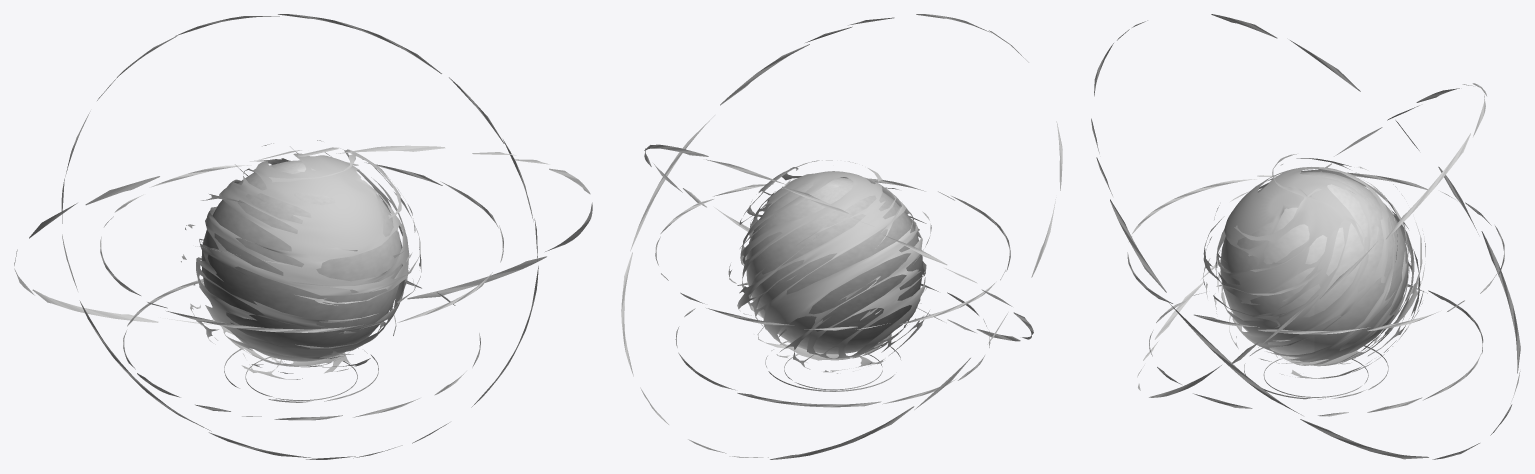
The model's file is fireball.obj.
3 renders of one model, left to right at view 1: azimuth 30°, elevation 25°; view 2: azimuth 150°, elevation 25°; view 3: azimuth 270°, elevation 25°, orthographic. The views are drawn at different scales.
Visible parts, largest first — view 1: Sphere.002, Sphere.001, Circle.004, Circle, Sphere, Circle.001, Circle.002; view 2: Sphere.001, Sphere.002, Circle.004, Sphere, Circle, Circle.001, Circle.002; view 3: Sphere.002, Sphere.001, Sphere, Circle.004, Circle, Circle.001, Circle.002.
Boxes of the visible parts, bbox=[...] form: Sphere.002: bbox=[196, 153, 409, 367]; Sphere.001: bbox=[201, 160, 402, 361]; Circle.004: bbox=[14, 145, 592, 324]; Circle: bbox=[61, 14, 538, 459]; Sphere: bbox=[181, 140, 421, 379]; Circle.001: bbox=[100, 160, 503, 332]; Circle.002: bbox=[123, 279, 480, 420]; Sphere.001: bbox=[746, 177, 922, 354]; Sphere.002: bbox=[740, 171, 926, 360]; Circle.004: bbox=[621, 14, 1062, 459]; Sphere: bbox=[728, 160, 931, 373]; Circle: bbox=[644, 144, 1033, 341]; Circle.001: bbox=[655, 178, 1010, 330]; Circle.002: bbox=[675, 282, 990, 407]; Sphere.002: bbox=[1215, 167, 1414, 366]; Sphere.001: bbox=[1220, 171, 1408, 360]; Sphere: bbox=[1203, 154, 1425, 378]; Circle.004: bbox=[1091, 14, 1520, 459]; Circle: bbox=[1137, 83, 1486, 397]; Circle.001: bbox=[1127, 171, 1504, 334]; Circle.002: bbox=[1149, 284, 1483, 416].
Bounding box in the file's own units: 5.46 × 3.78 × 4.43.
